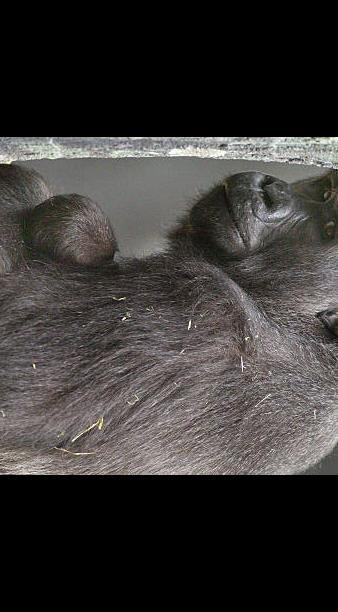gorille_Autres: (0, 165, 338, 475)
